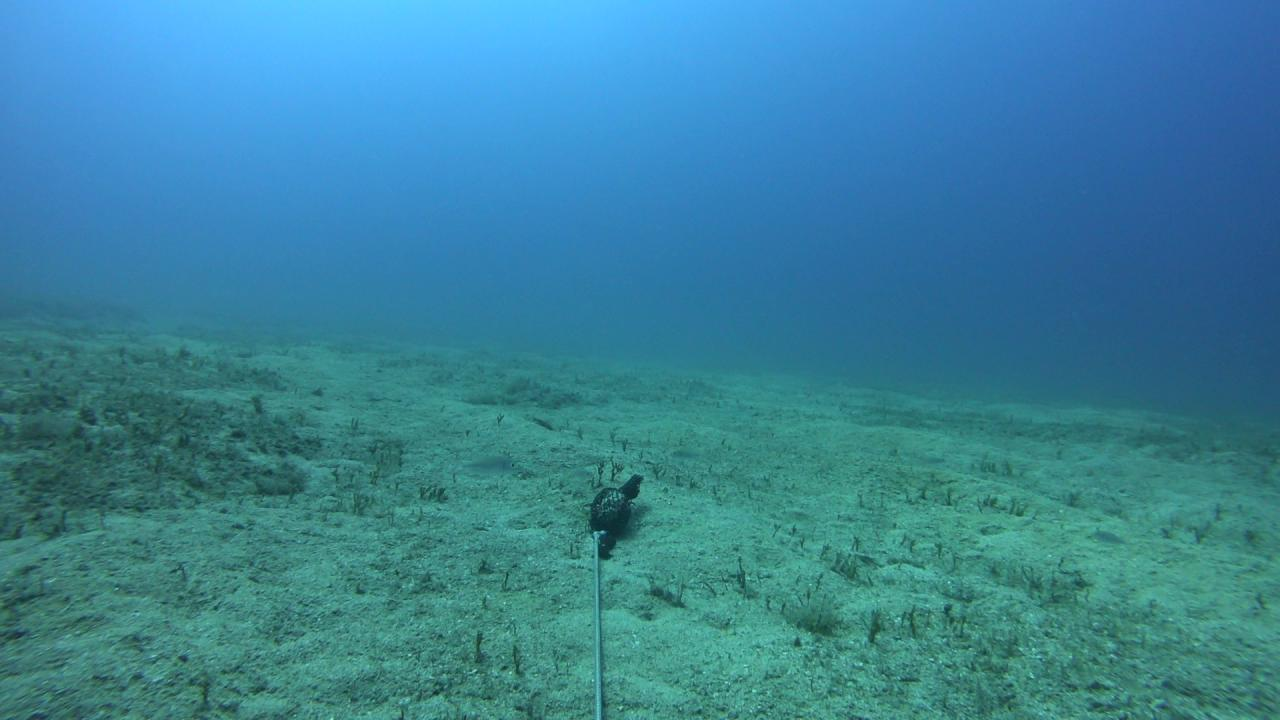pagellus: (447, 453, 522, 477)
